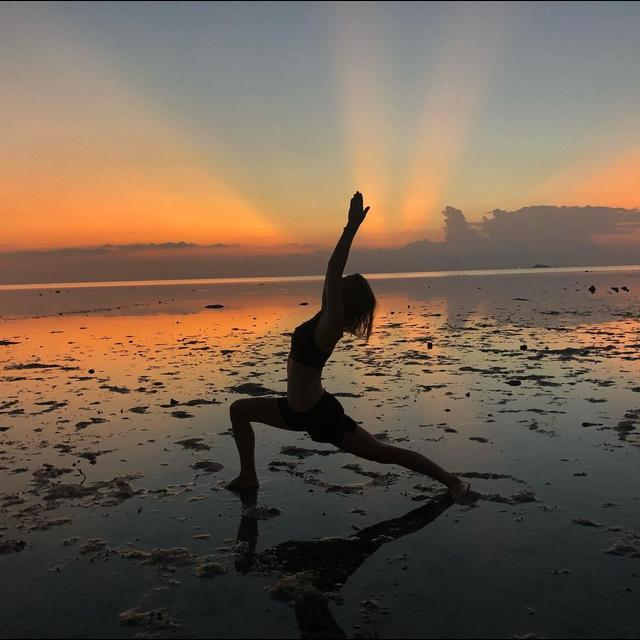Warrior_I: (219, 180, 490, 513)
